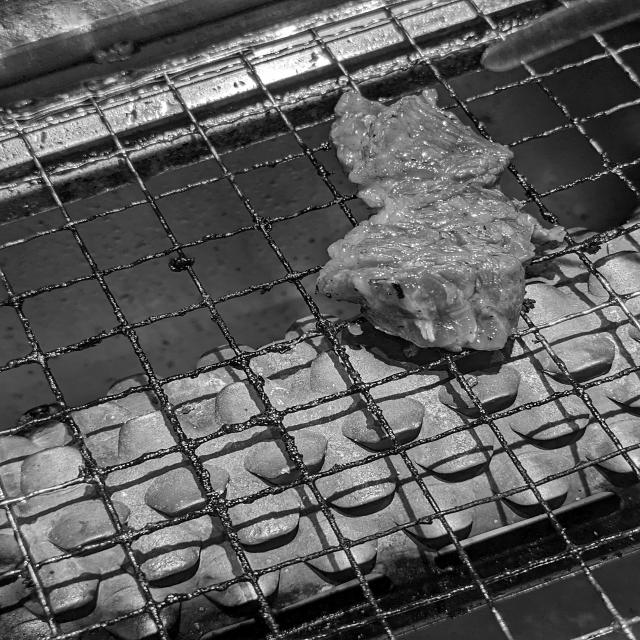NG undercooked beef,: (300, 78, 582, 363)
